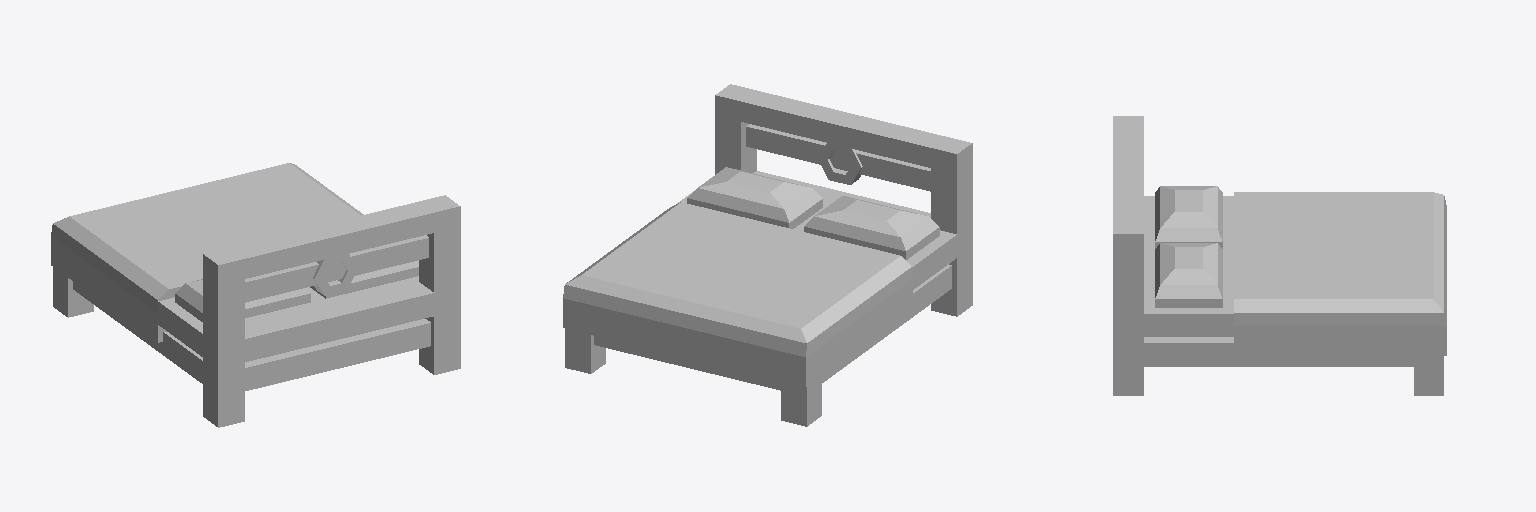
The model's file is bed_double_radiantplateau.obj.
3 renders of one model, left to right at view 1: azimuth 30°, elevation 25°; view 2: azimuth 150°, elevation 25°; view 3: azimuth 270°, elevation 25°, orthographic.
Parts seen in each view (by area): view 1: bed_radiant_plateau_double; view 2: bed_radiant_plateau_double; view 3: bed_radiant_plateau_double.
Boxes of the visible parts, x1,y1,x2,y2 form: bed_radiant_plateau_double: [51, 163, 460, 427]; bed_radiant_plateau_double: [563, 84, 972, 426]; bed_radiant_plateau_double: [1113, 116, 1446, 395].
Size of the model in its own units: 1.25 by 0.7995 by 1.49.